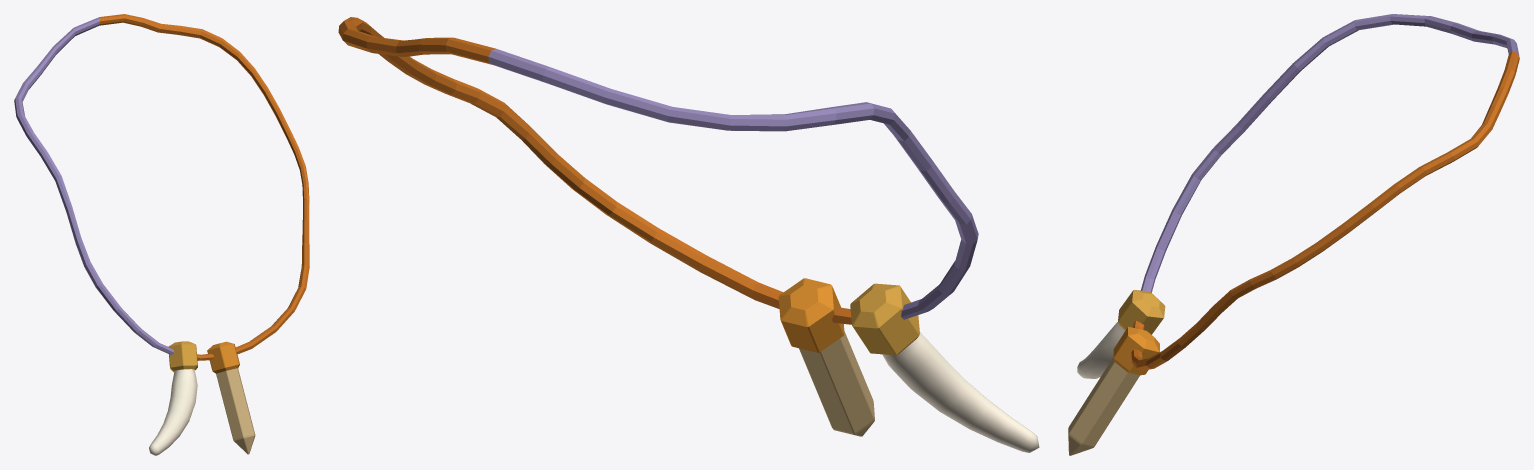
File: Dragon_Tusk_Amulet.glb
3 renders of one model, left to right at view 1: azimuth 30°, elevation 25°; view 2: azimuth 150°, elevation 25°; view 3: azimuth 270°, elevation 25°, orthographic. The views are drawn at different scales.
Visible parts, largest first — view 1: Dragon_Tusk_Amulet, Dragon_Tusk_Amulet_Tusk; view 2: Dragon_Tusk_Amulet, Dragon_Tusk_Amulet_Tusk; view 3: Dragon_Tusk_Amulet, Dragon_Tusk_Amulet_Tusk.
Boxes of the visible parts, x1,y1,x2,y2 form: Dragon_Tusk_Amulet: (14,14,309,454); Dragon_Tusk_Amulet_Tusk: (149,369,197,455); Dragon_Tusk_Amulet: (338,17,978,436); Dragon_Tusk_Amulet_Tusk: (882,332,1039,452); Dragon_Tusk_Amulet: (1068,14,1519,455); Dragon_Tusk_Amulet_Tusk: (1077,322,1124,378).
Bounding box in the file's own units: 0.8537 × 1.01 × 0.9993.
